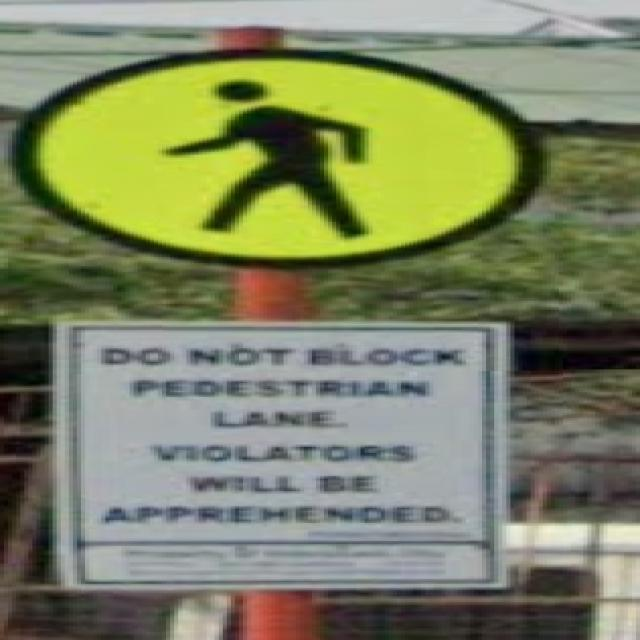pedestrian crossing: (12, 47, 543, 266)
